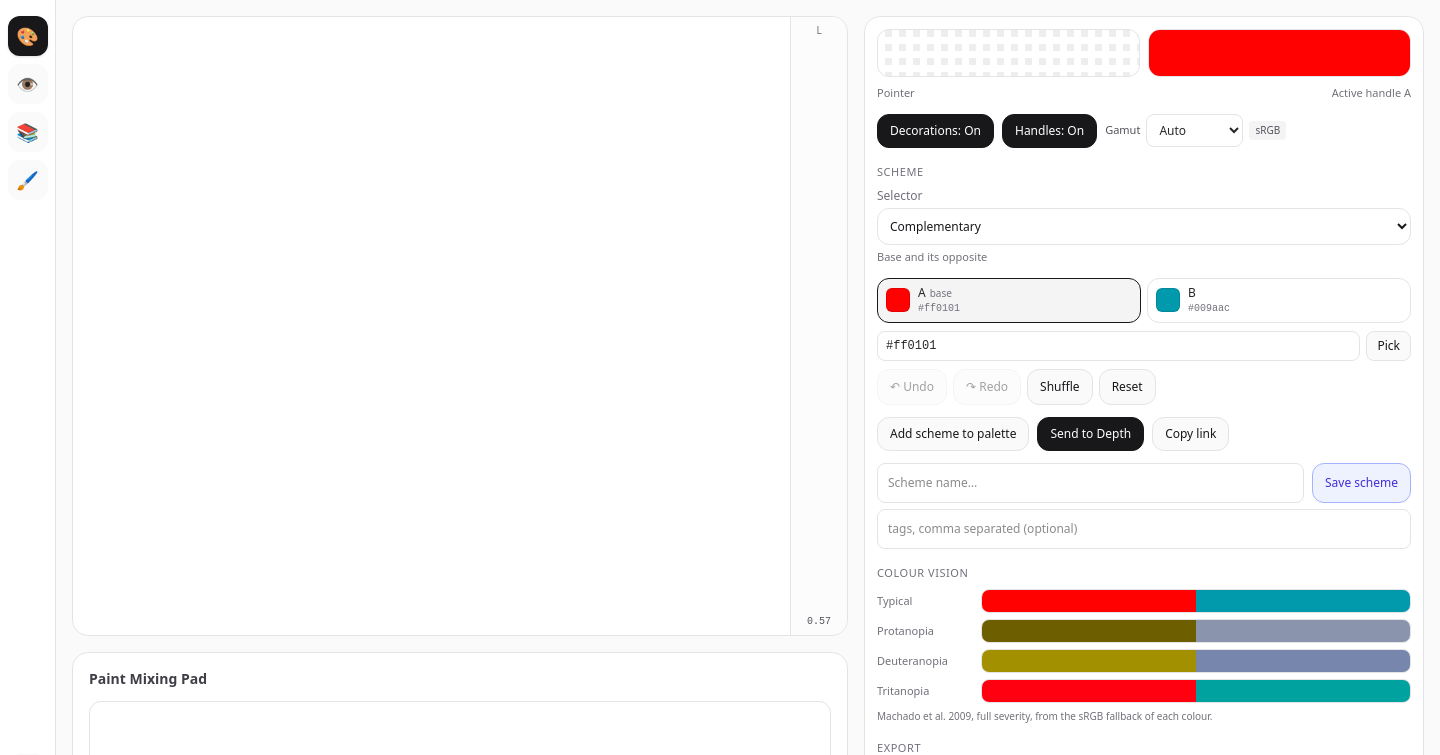
Test: artist wheel selectors › typing a colour sets the active handle; undo and redo walk the history; keyboard works outside inputs
Replace the text in the field named "colour of the active handle" with "#8b4513" at (1119, 346), box [877, 330, 1360, 360]
Press Enter in the field named "colour of the active handle", box [877, 330, 1360, 360]
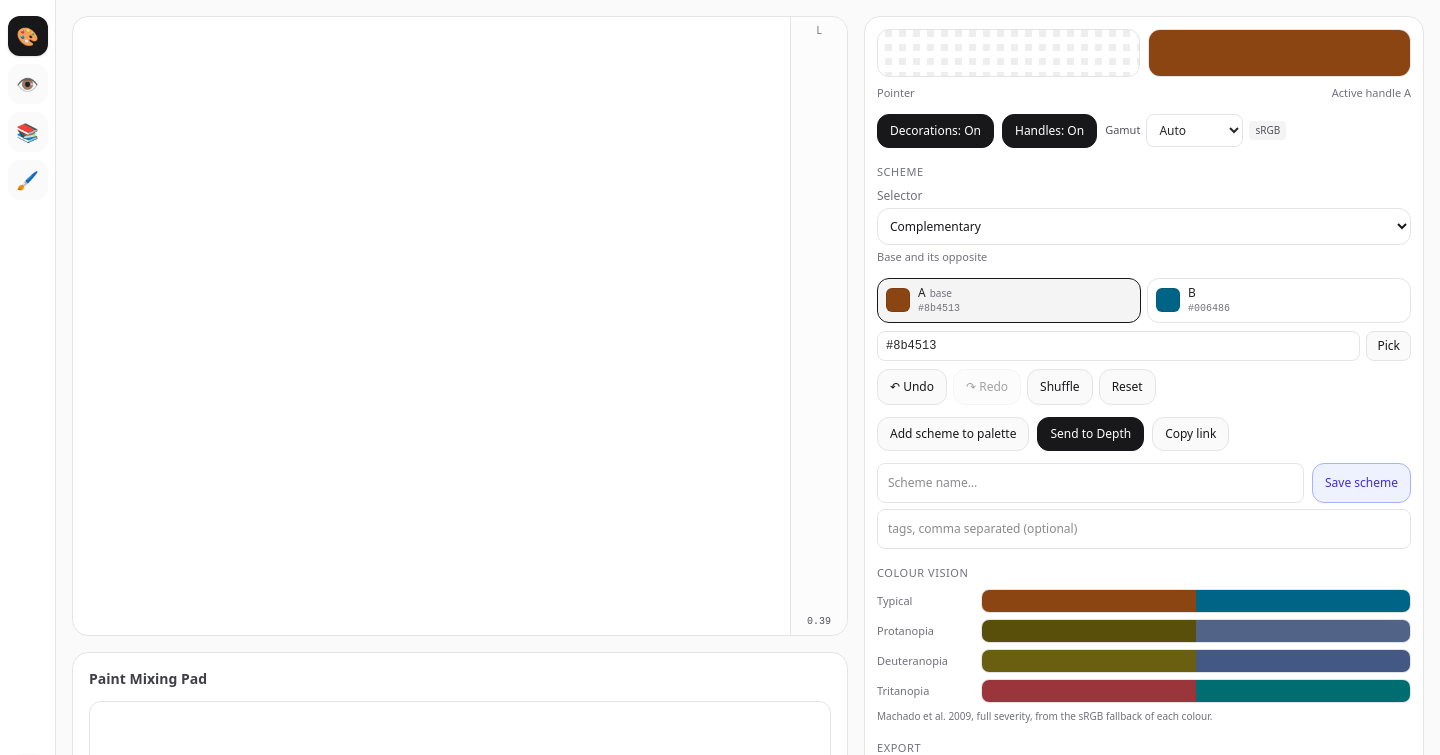
Expected: the 1st option shows "#8b4513", [877, 278, 1141, 322]
Replace the text in the field named "colour of the active handle" with "not a colour" at (1119, 346), box [877, 330, 1360, 360]
Press Enter in the field named "colour of the active handle", box [877, 330, 1360, 360]
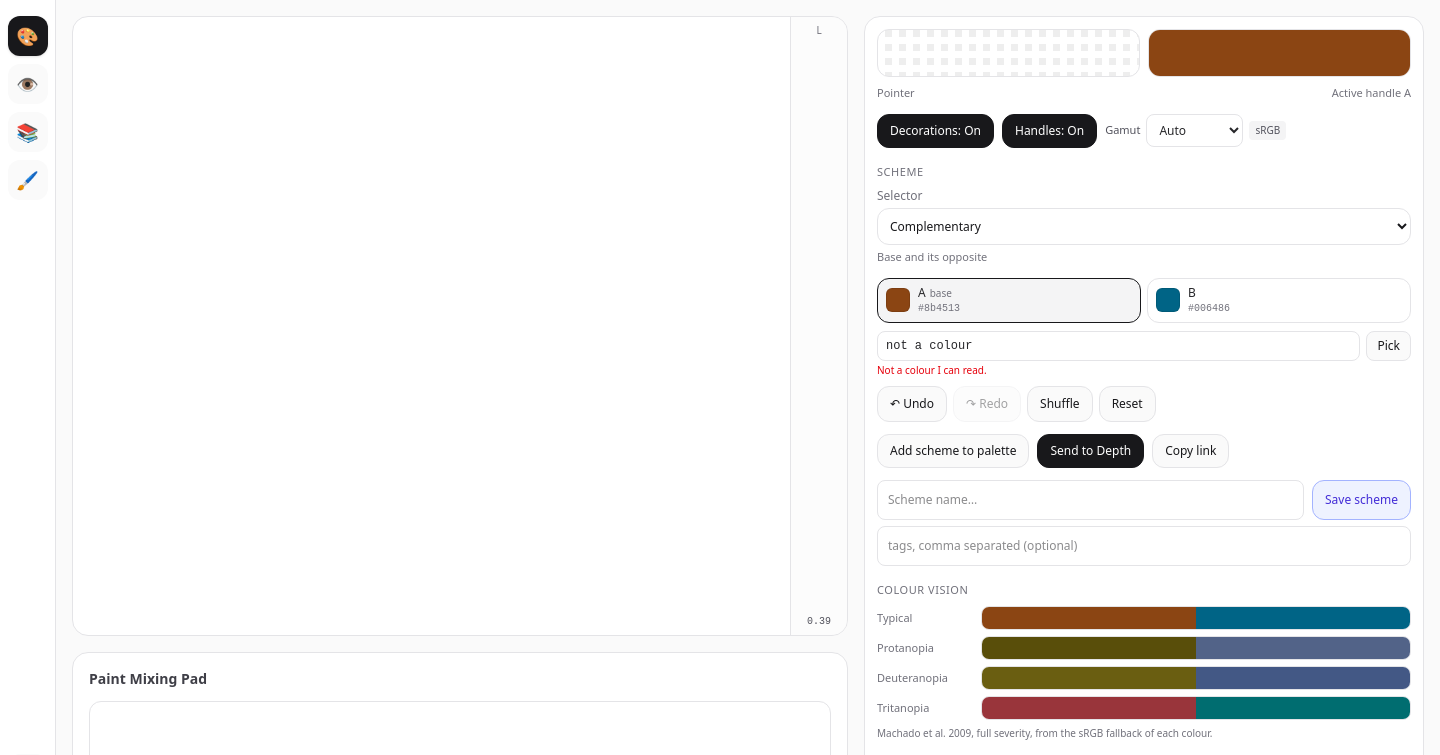
Expected: the 1st option shows "#8b4513", [877, 278, 1141, 322]
Expected: the text "Not a colour I can read." is shown, [877, 362, 987, 376]
Click the button "↶ Undo" at (912, 404), box [877, 386, 947, 422]
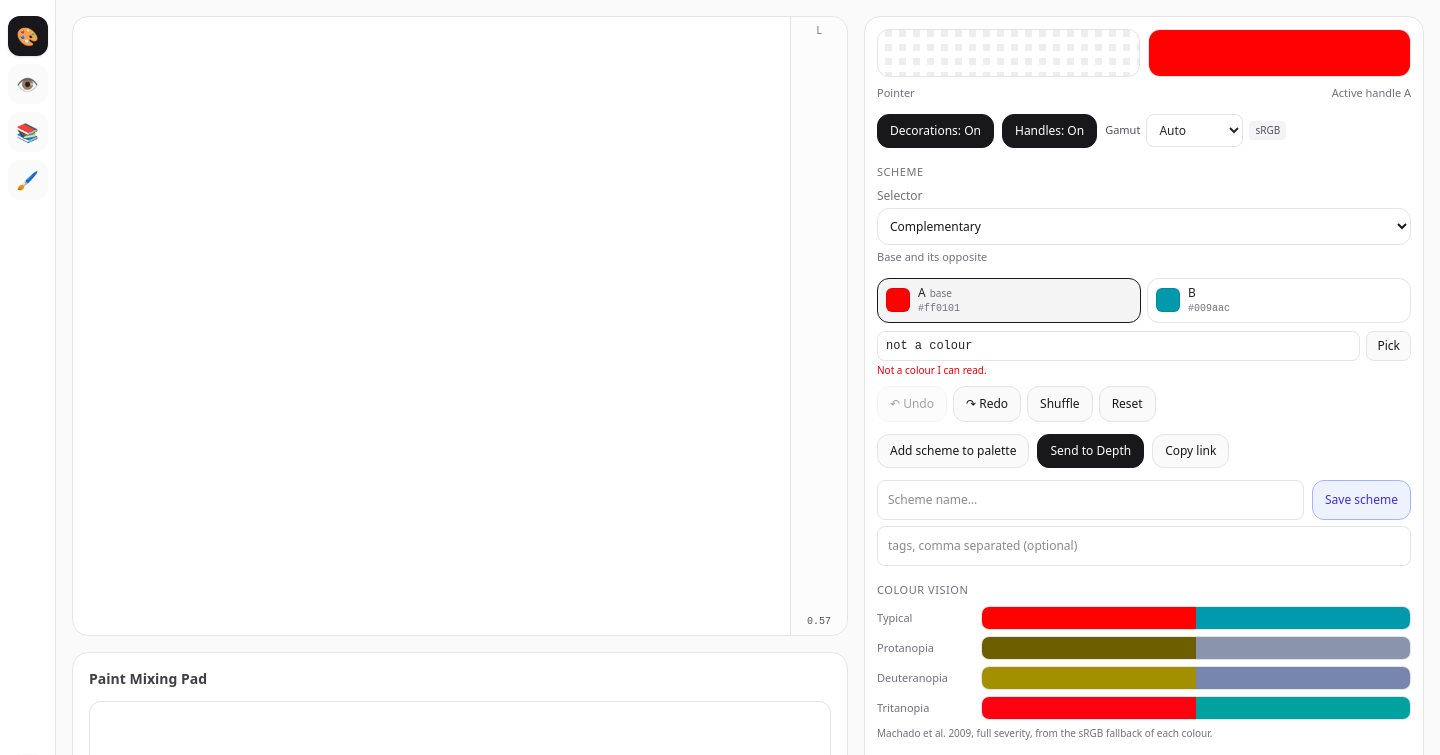
Expected: the 1st option shows "#ff0101", [877, 278, 1141, 322]
Click the button "↷ Redo" at (987, 404), box [953, 386, 1021, 422]
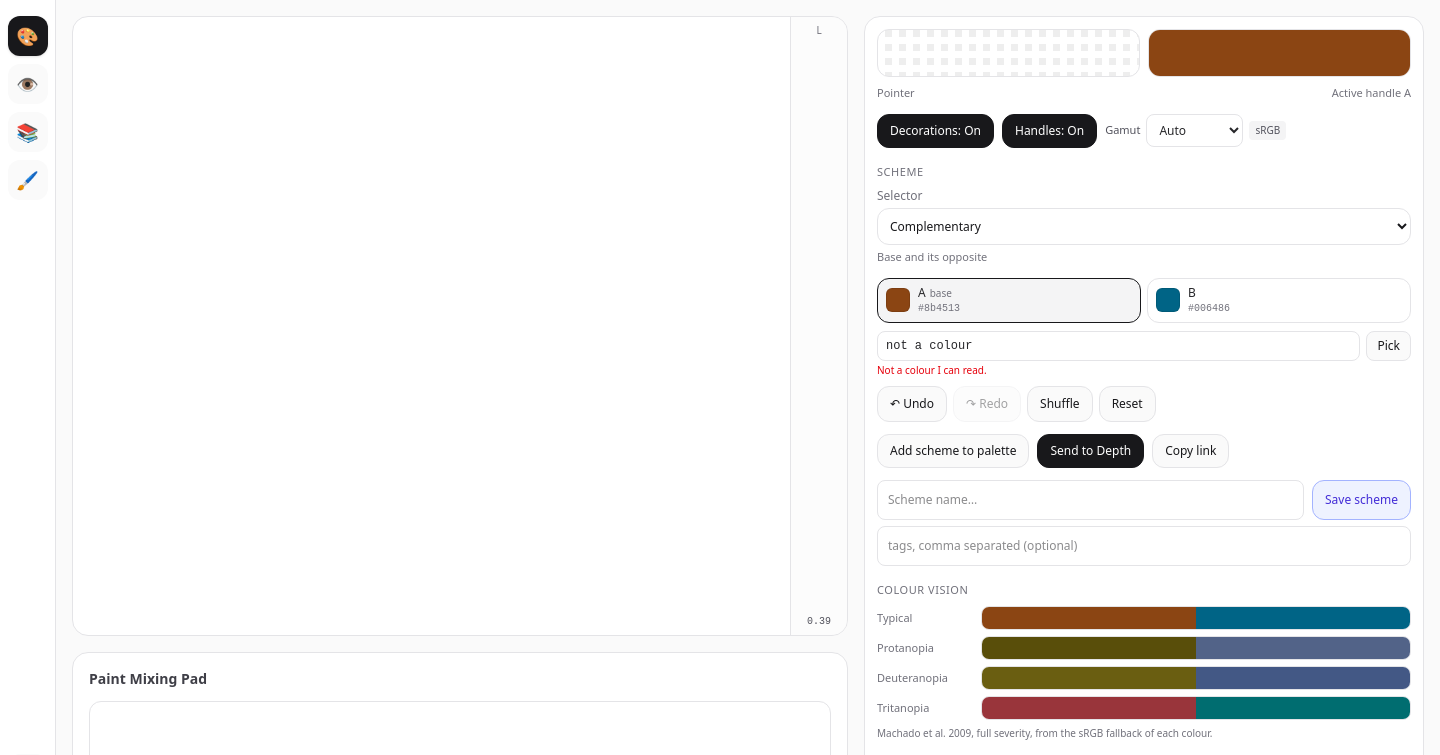
Expected: the 1st option shows "#8b4513", [877, 278, 1141, 322]
Press z
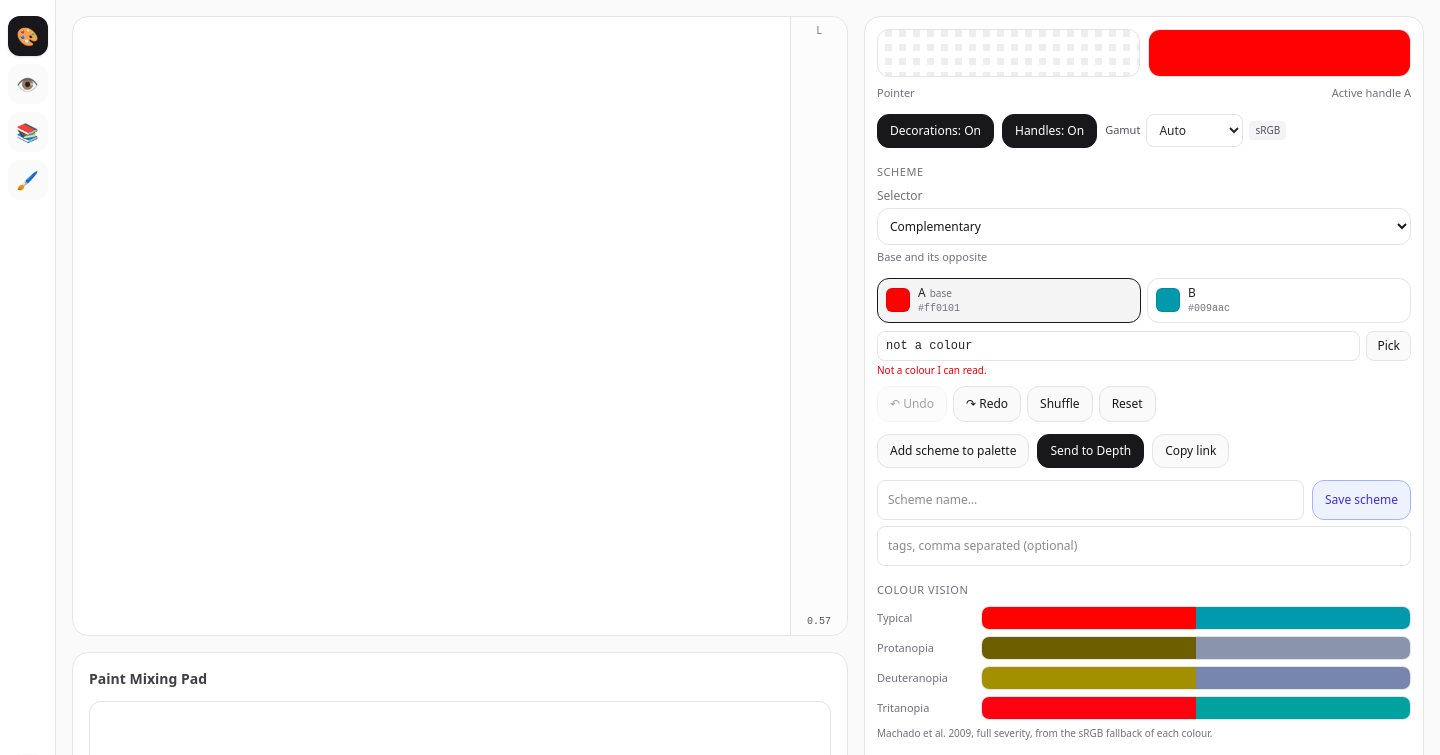
Expected: the 1st option shows "#ff0101", [877, 278, 1141, 322]
Press z
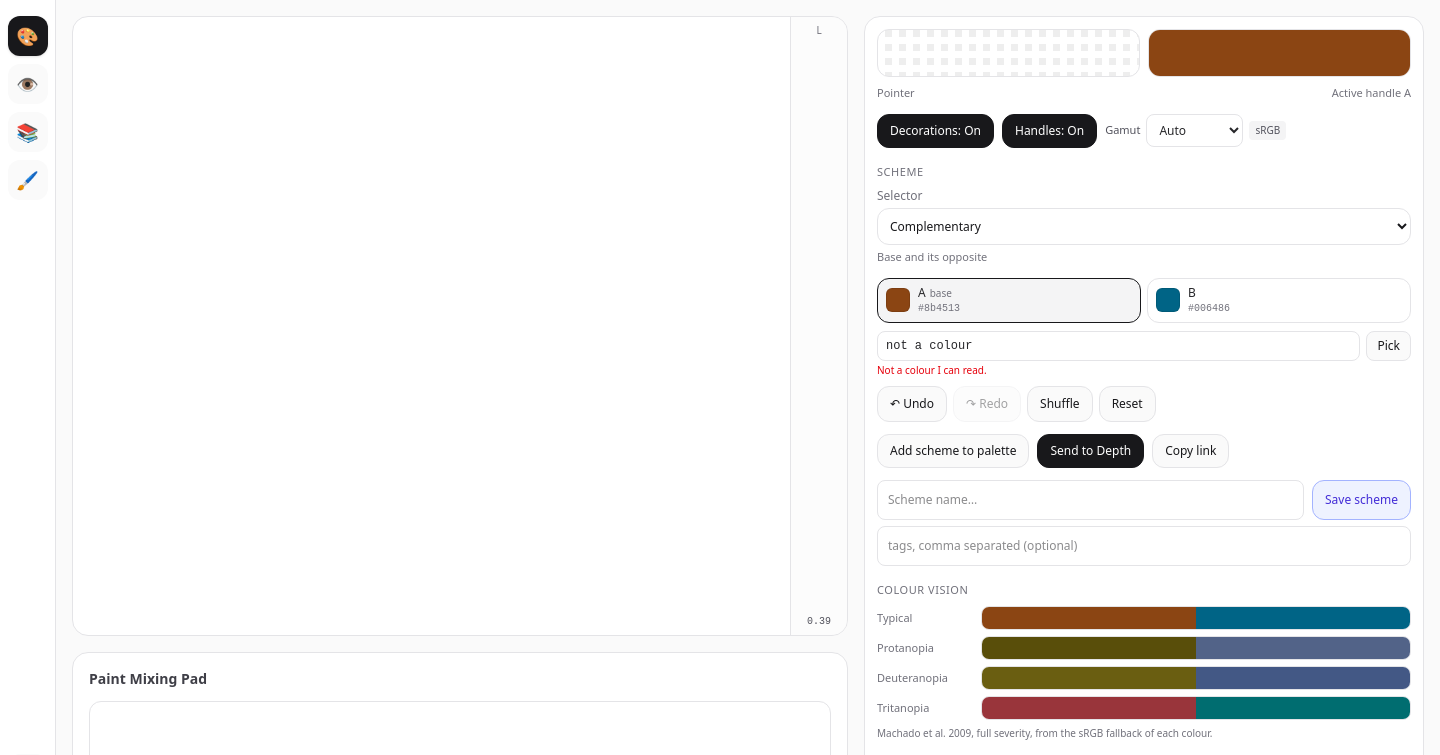
Expected: the 1st option shows "#8b4513", [877, 278, 1141, 322]
Expected: the button "↷ Redo" is disabled, [953, 386, 1021, 422]
